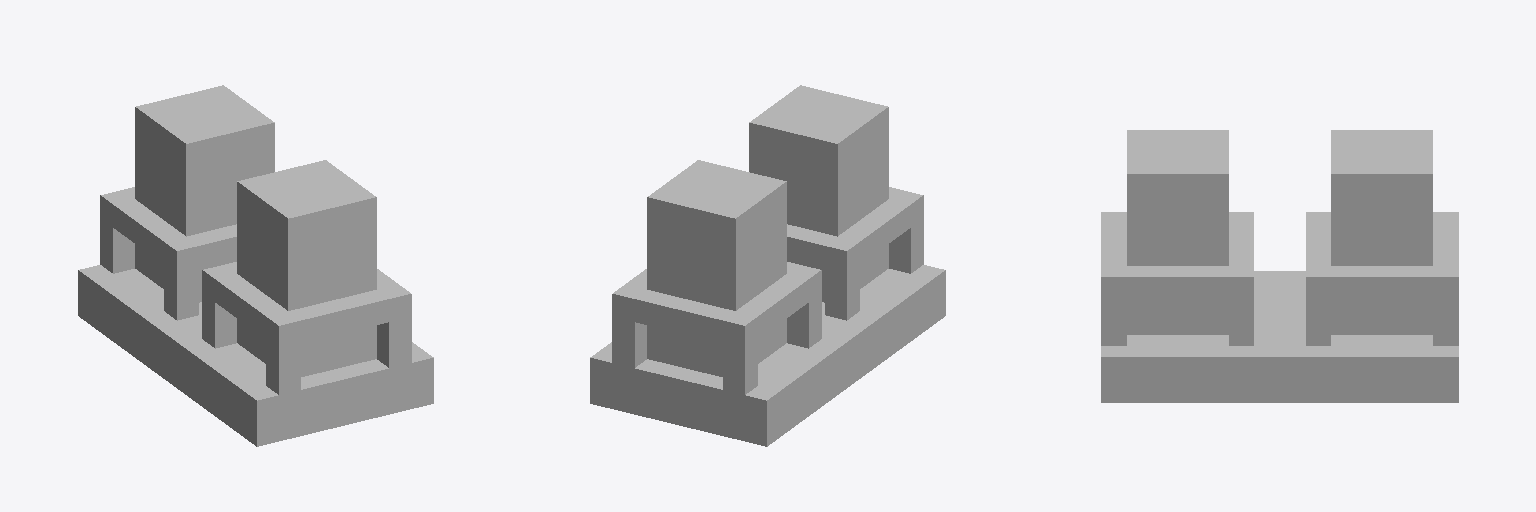
The model's file is bus_remapper.obj.
The picture shows the model from 3 angles: view 1: azimuth 30°, elevation 25°; view 2: azimuth 150°, elevation 25°; view 3: azimuth 270°, elevation 25°; orthographic projection.
Parts seen in each view (by area): view 1: Cube.003_Cube.001, Cube.003_Cube.000, Cube.001; view 2: Cube.003_Cube.000, Cube.003_Cube.001, Cube.001; view 3: Cube.003_Cube.000, Cube.003_Cube.001, Cube.001.
Boxes of the visible parts, box(x1,y1,x2,y2) form: Cube.003_Cube.001: box(202, 160, 411, 394); Cube.003_Cube.000: box(100, 85, 274, 320); Cube.001: box(78, 265, 433, 446); Cube.003_Cube.000: box(612, 160, 821, 394); Cube.003_Cube.001: box(749, 85, 923, 320); Cube.001: box(590, 265, 945, 446); Cube.003_Cube.000: box(1306, 130, 1458, 345); Cube.003_Cube.001: box(1101, 130, 1253, 345); Cube.001: box(1101, 271, 1458, 402).
Size of the model in its own units: 0.5 by 0.5625 by 0.875.